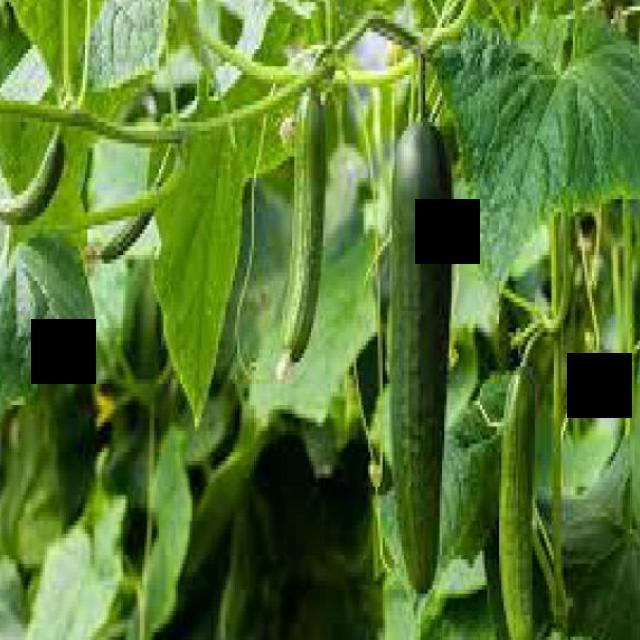cucumber: (382, 100, 458, 606), (273, 83, 330, 384), (494, 357, 540, 640), (0, 121, 69, 229), (94, 195, 154, 276)
